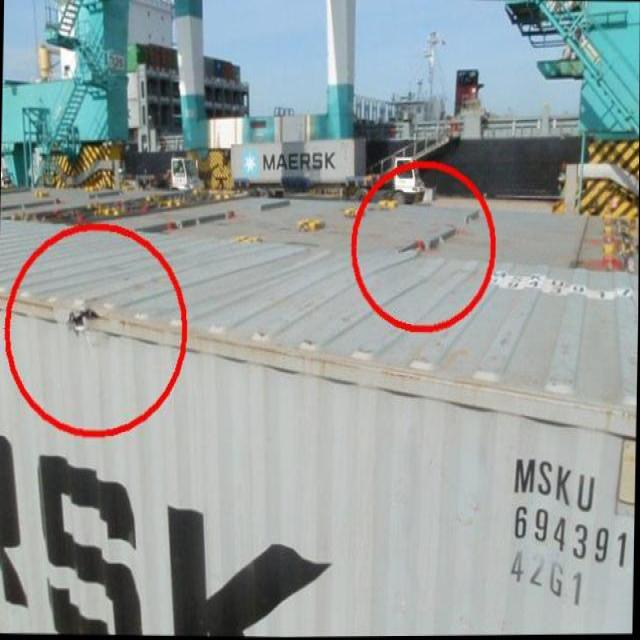hole: (62, 303, 109, 336)
